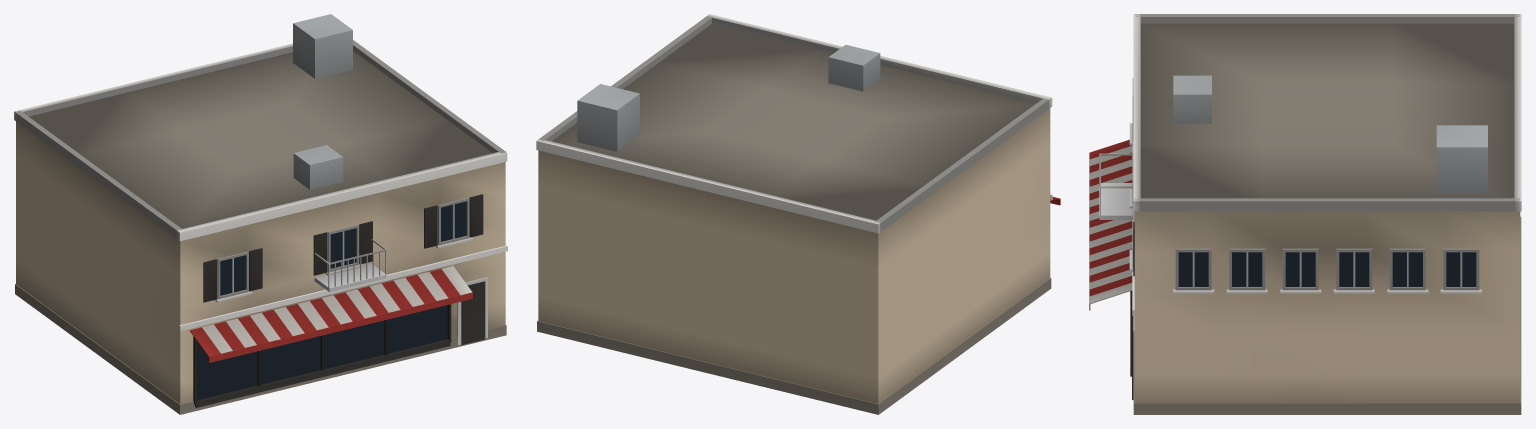
Rendered from comercio-CzrshJlu.glb.
The picture shows the model from 3 angles, left to right: view 1: azimuth 30°, elevation 25°; view 2: azimuth 150°, elevation 25°; view 3: azimuth 270°, elevation 25°; orthographic projection. The views are drawn at different scales.
Parts seen in each view (by area): view 1: pieza, pieza.002, pieza.008, pieza.003, pieza.001, pieza.032, pieza.004, pieza.005, pieza.014, pieza.007, pieza.016, pieza.031 (+13 smaller); view 2: pieza, pieza.002, pieza.001, pieza.004, pieza.032, pieza.003, pieza.005, pieza.031, pieza.006; view 3: pieza, pieza.002, pieza.006, pieza.001, pieza.005, pieza.032, pieza.031, pieza.003, pieza.004, pieza.017, ventana.027, ventana.034 (+4 smaller).
Part boxes in pixels (x1,y1,x2,y2): pieza: (16,121,505,404); pieza.002: (29,51,492,228); pieza.008: (197,305,447,399); pieza.003: (176,152,507,241); pieza.001: (15,284,506,414); pieza.032: (293,14,352,78); pieza.004: (14,43,292,120); pieza.005: (15,110,181,239); pieza.014: (195,339,450,407); pieza.007: (179,245,507,330); pieza.016: (208,292,472,362); pieza.031: (293,145,343,189); pieza: (538,108,1050,403); pieza.002: (552,24,1036,220); pieza.001: (537,278,1051,414); pieza.004: (536,139,881,233); pieza.032: (577,84,639,151); pieza.003: (706,14,1052,108); pieza.005: (875,98,1048,232); pieza.031: (828,44,880,91); pieza.006: (538,16,711,141); pieza: (1134,211,1520,402); pieza.002: (1140,23,1514,198); pieza.006: (1134,198,1520,211); pieza.001: (1133,216,1521,414); pieza.005: (1135,14,1520,23); pieza.032: (1436,125,1487,193); pieza.031: (1173,75,1211,123); pieza.003: (1133,14,1140,211); pieza.004: (1514,14,1521,211); pieza.017: (1099,183,1132,219); ventana.027: (1178,252,1208,286); ventana.034: (1232,252,1262,286).
Bounding box in the file's own units: 13.91 × 8.72 × 13.47.
